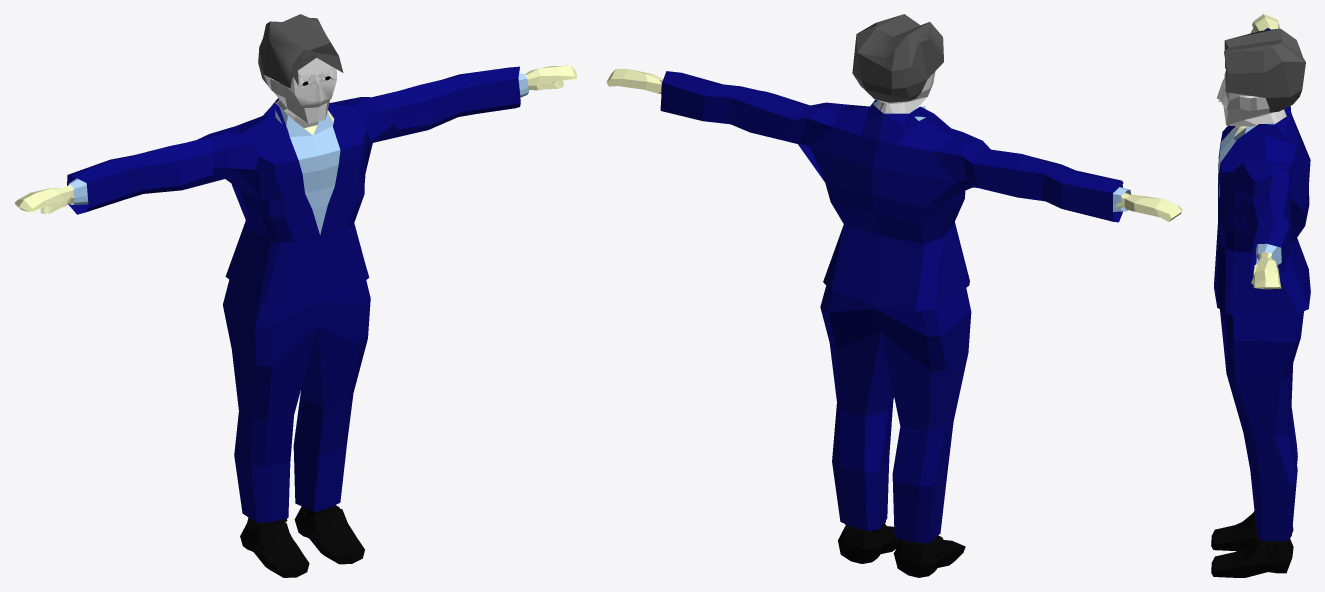
File: John.Rig_04.fbx
3 renders of one model, left to right at view 1: azimuth 30°, elevation 25°; view 2: azimuth 150°, elevation 25°; view 3: azimuth 270°, elevation 25°, orthographic. The views are drawn at different scales.
Visible parts, largest first — view 1: John Bod.008; view 2: John Bod.008; view 3: John Bod.008.
Boxes of the visible parts, x1=… form: John Bod.008: x1=14, y1=14, x2=577, y2=577; John Bod.008: x1=606, y1=14, x2=1182, y2=577; John Bod.008: x1=1211, y1=14, x2=1310, y2=577.
Bounding box in the file's own units: 2740 × 2479 × 430.
